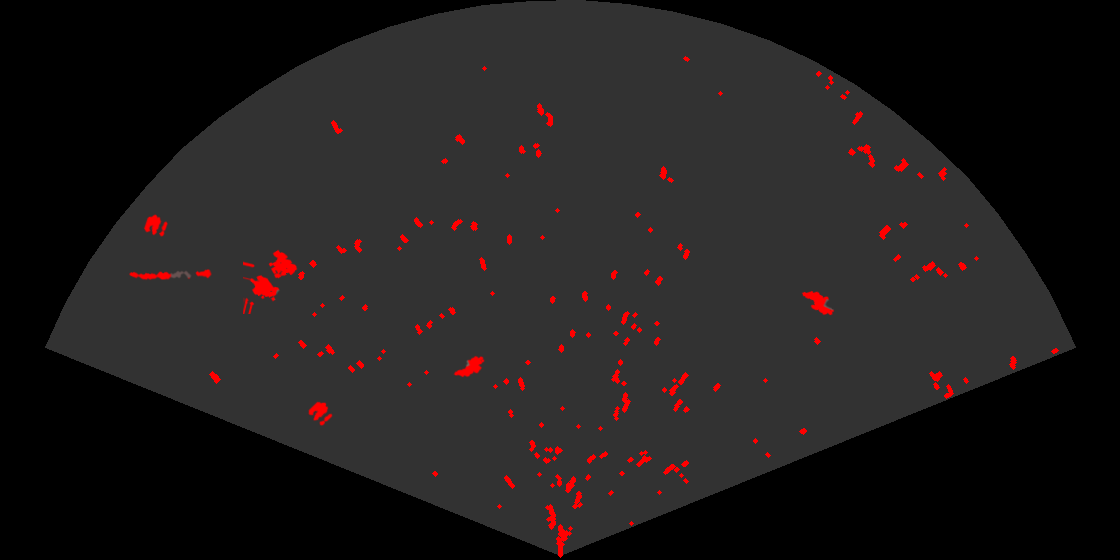AUV: (800, 289, 836, 317), (452, 354, 486, 379)
ball: (307, 400, 334, 427), (142, 213, 169, 238)
cage: (243, 248, 299, 314)
chain: (128, 268, 212, 282)
